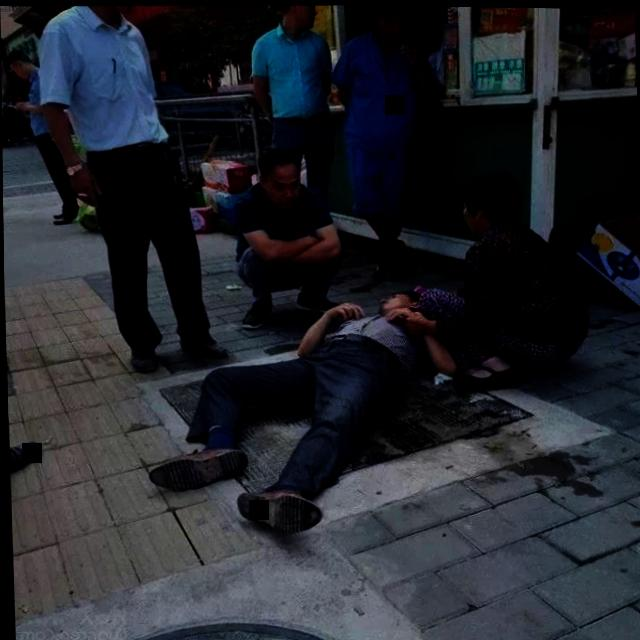Fall-Detected: (130, 275, 463, 547)
